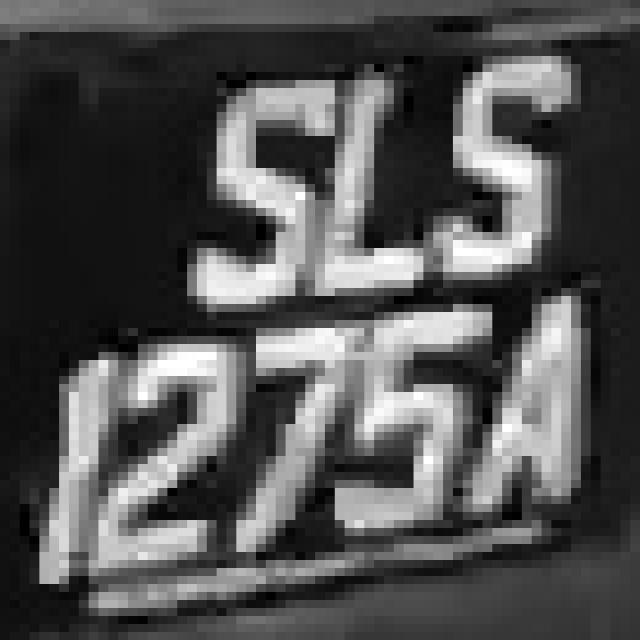1: (10, 304, 118, 600)
2: (99, 320, 246, 584)
5: (344, 272, 472, 560)
7: (226, 328, 364, 560)
A: (463, 272, 610, 576)
L: (295, 72, 443, 288)
S: (414, 40, 571, 288), (187, 64, 305, 320)
